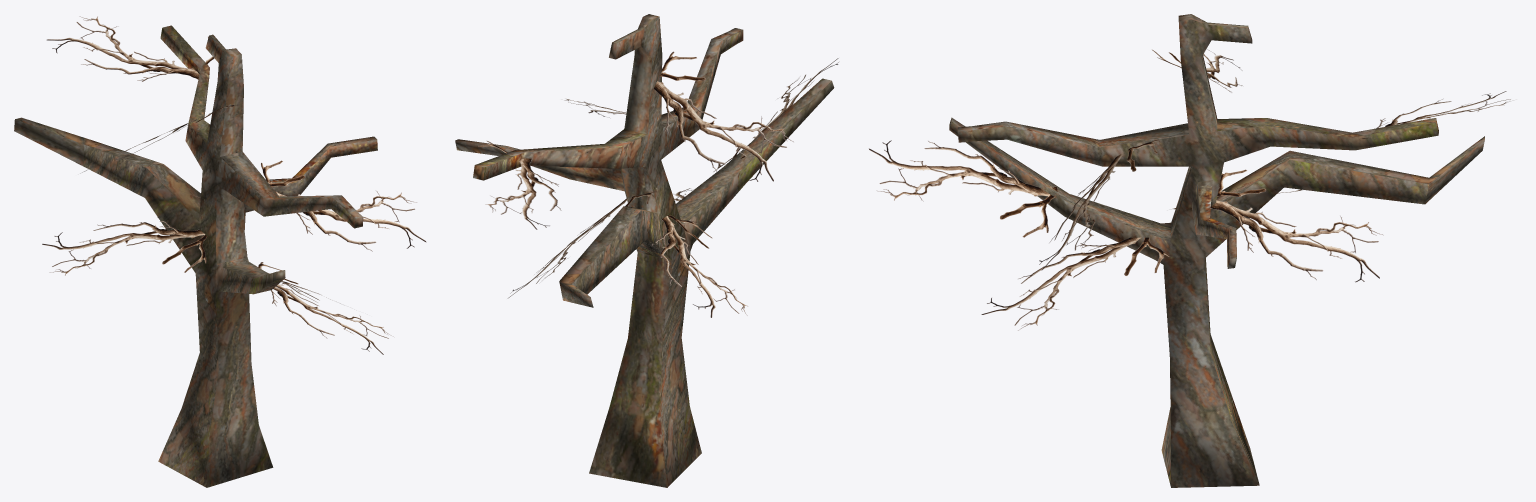
The model's file is tree_4.glb.
3 views of the same model, side by side, from view 1: azimuth 30°, elevation 25°; view 2: azimuth 150°, elevation 25°; view 3: azimuth 270°, elevation 25° (orthographic). The views are drawn at different scales.
Parts seen in each view (by area): view 1: Cube, a-dead-tree-branch-on-a-transparent-background-png.002, a-dead-tree-branch-on-a-transparent-background-png.003, a-dead-tree-branch-on-a-transparent-background-png.006, a-dead-tree-branch-on-a-transparent-background-png; view 2: Cube, a-dead-tree-branch-on-a-transparent-background-png.005, a-dead-tree-branch-on-a-transparent-background-png.002, a-dead-tree-branch-on-a-transparent-background-png.003, a-dead-tree-branch-on-a-transparent-background-png.004, a-dead-tree-branch-on-a-transparent-background-png.001; view 3: Cube, a-dead-tree-branch-on-a-transparent-background-png.004, a-dead-tree-branch-on-a-transparent-background-png.001, a-dead-tree-branch-on-a-transparent-background-png, a-dead-tree-branch-on-a-transparent-background-png.006.
Part boxes in pixels (box(x1,y1,x2,y2)): Cube: box(14, 25, 377, 487); a-dead-tree-branch-on-a-transparent-background-png.002: box(42, 217, 206, 275); a-dead-tree-branch-on-a-transparent-background-png.003: box(46, 16, 214, 81); a-dead-tree-branch-on-a-transparent-background-png.006: box(261, 160, 426, 251); a-dead-tree-branch-on-a-transparent-background-png: box(258, 262, 393, 354); Cube: box(455, 14, 834, 487); a-dead-tree-branch-on-a-transparent-background-png.005: box(653, 51, 793, 181); a-dead-tree-branch-on-a-transparent-background-png.002: box(651, 215, 747, 317); a-dead-tree-branch-on-a-transparent-background-png.003: box(478, 141, 561, 229); a-dead-tree-branch-on-a-transparent-background-png.004: box(508, 191, 656, 298); a-dead-tree-branch-on-a-transparent-background-png.001: box(713, 58, 838, 171); Cube: box(949, 14, 1484, 487); a-dead-tree-branch-on-a-transparent-background-png.004: box(1210, 169, 1383, 282); a-dead-tree-branch-on-a-transparent-background-png.001: box(869, 140, 1057, 237); a-dead-tree-branch-on-a-transparent-background-png: box(981, 237, 1169, 330); a-dead-tree-branch-on-a-transparent-background-png.006: box(1039, 139, 1158, 270).
Bounding box in the file's own units: 12.53 × 16.33 × 21.23.
Materials: 2 (2 with a texture image).
